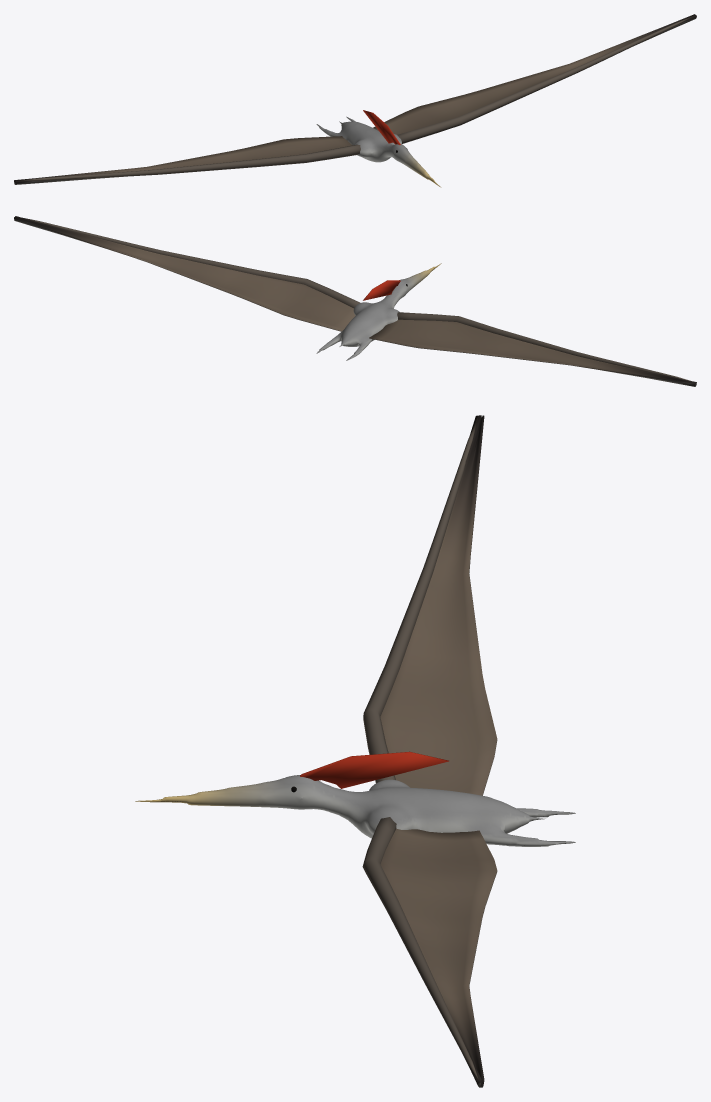
Rendered from Pteranodon.fbx.
3 renders of one model, top to bottom at view 1: azimuth 30°, elevation 25°; view 2: azimuth 150°, elevation 25°; view 3: azimuth 270°, elevation 25°, orthographic. The views are drawn at different scales.
Parts seen in each view (by area): view 1: Pteranodon; view 2: Pteranodon; view 3: Pteranodon.
Boxes of the visible parts, <box> form: Pteranodon: <box>14,14,696,187</box>; Pteranodon: <box>14,216,696,386</box>; Pteranodon: <box>135,415,575,1087</box>.
Bounding box in the file's own units: 3.2 × 0.2198 × 0.8976.
